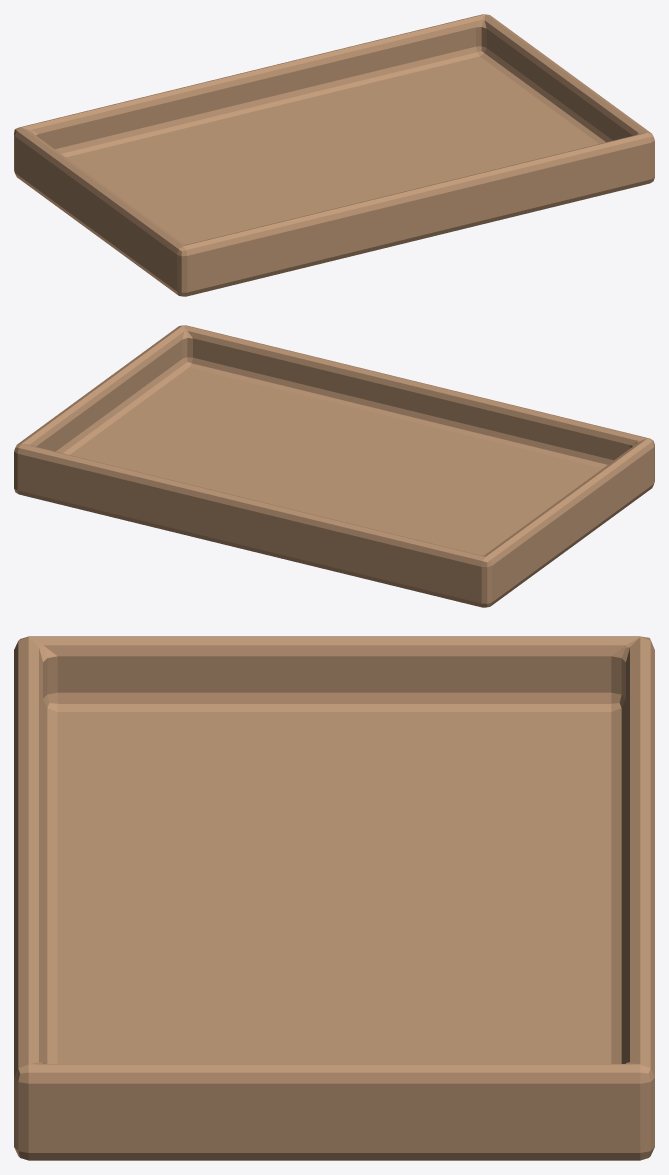
File: Tray.fbx
3 views of the same model, one above another, from view 1: azimuth 30°, elevation 25°; view 2: azimuth 150°, elevation 25°; view 3: azimuth 270°, elevation 25° (orthographic). The views are drawn at different scales.
Parts seen in each view (by area): view 1: Tray.001; view 2: Tray.001; view 3: Tray.001.
Part boxes in pixels (box(x1,y1,x2,y2)): Tray.001: box(14, 14, 654, 296); Tray.001: box(14, 325, 654, 607); Tray.001: box(14, 636, 654, 1160).
Size of the model in its own units: 41.36 by 4.19 by 25.48.
